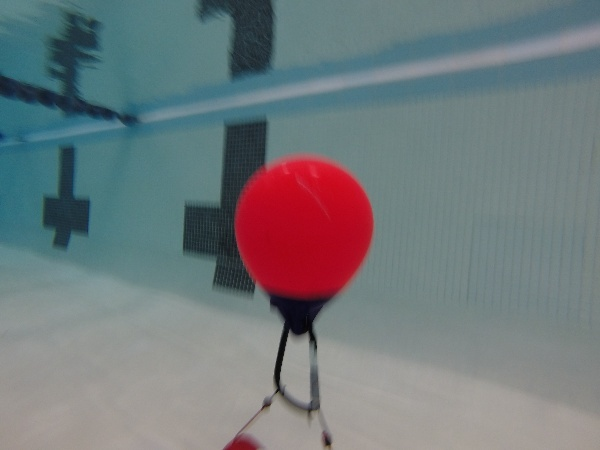buoy_red: (233, 151, 374, 334)
